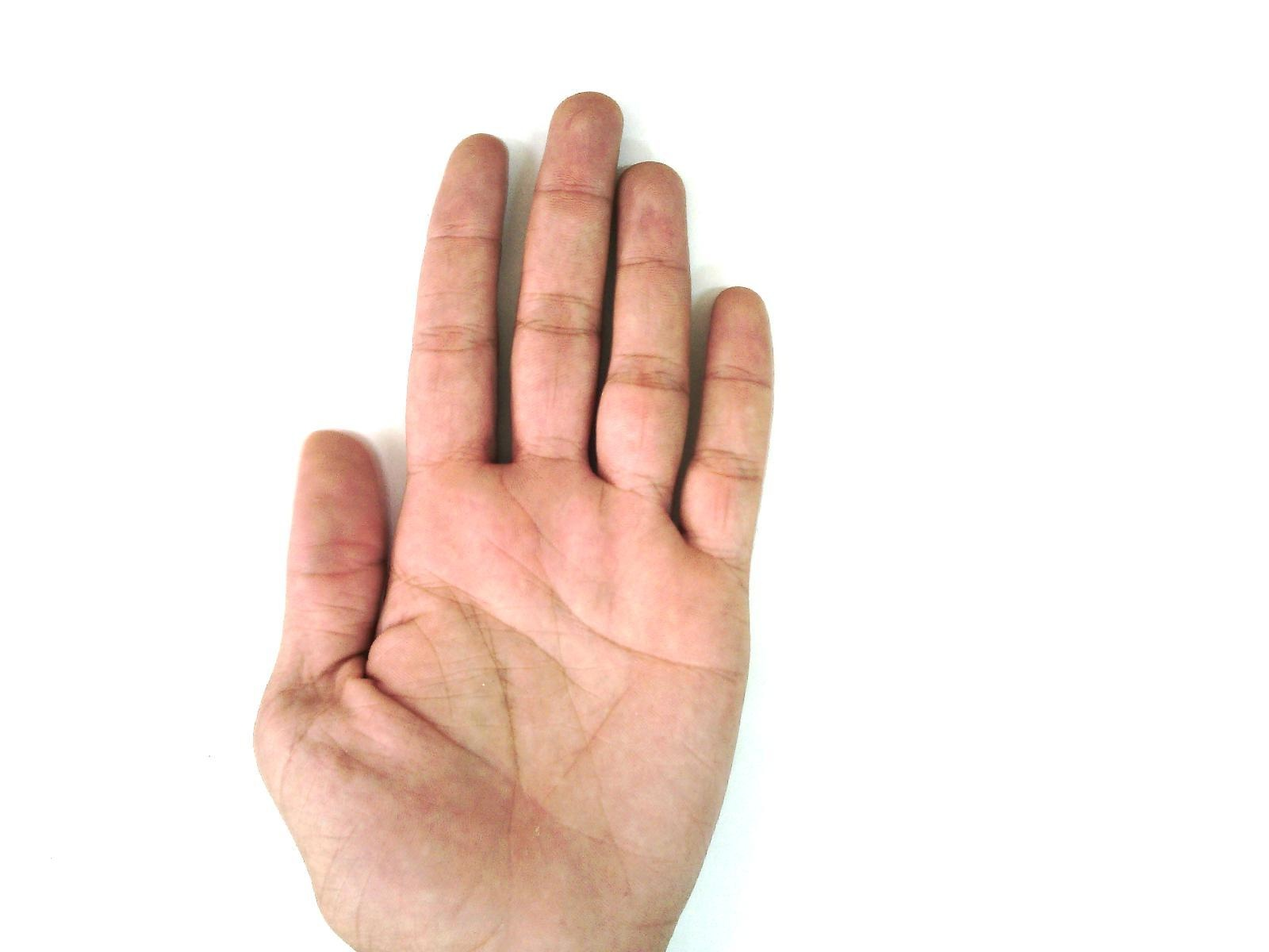open_palm: (251, 90, 778, 951)
